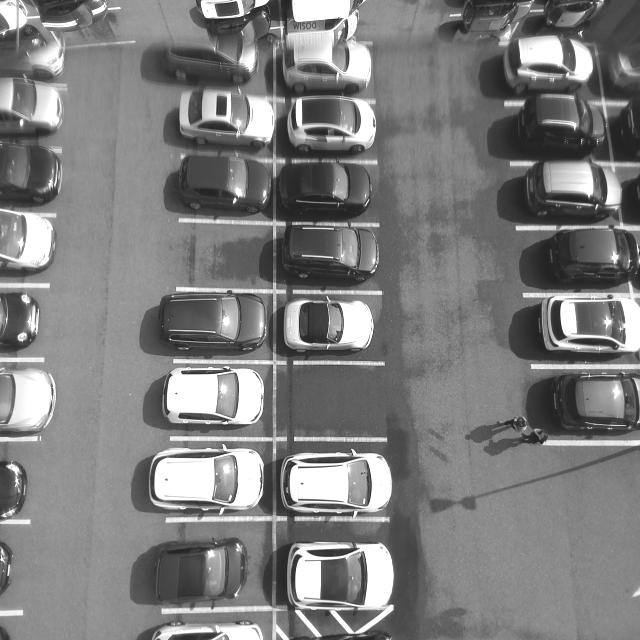car: (286, 540, 400, 616), (147, 444, 265, 514), (279, 449, 397, 517), (161, 292, 269, 355), (177, 88, 277, 154), (534, 296, 640, 358), (162, 368, 267, 429), (154, 539, 251, 603), (515, 91, 610, 155), (281, 224, 382, 284), (281, 296, 378, 357), (174, 158, 272, 217), (540, 230, 639, 288), (525, 160, 626, 216), (286, 97, 381, 156), (283, 36, 378, 94), (502, 34, 598, 88), (278, 165, 373, 215)
free_space: (273, 360, 391, 446), (174, 217, 278, 297)
